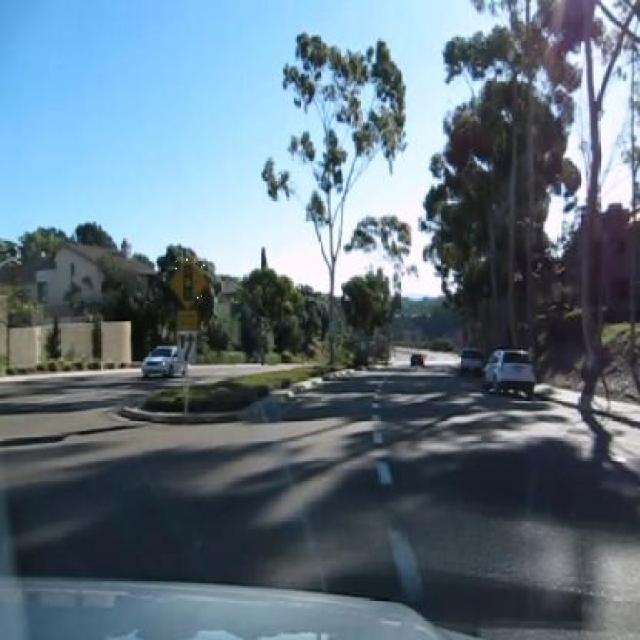keepRight: (176, 328, 197, 364)
signalAhead: (168, 253, 207, 310)
